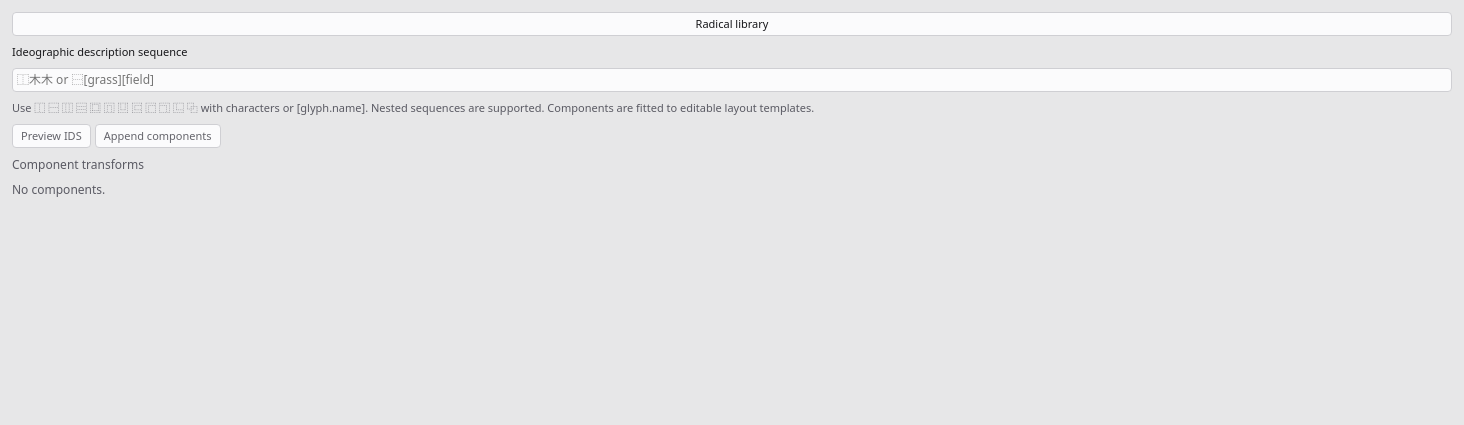
Test: CJK construction panel › inserts a radical the pinned data named, and a font component
Click the button "Radical library". click: coordinates (732, 24)
box: [12,12,1452,36]
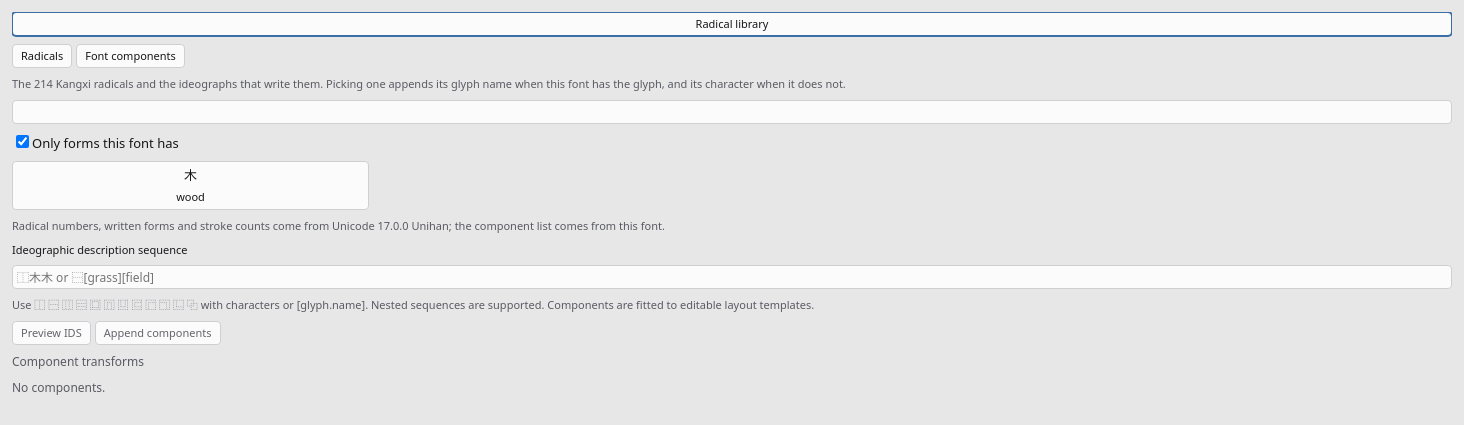
Click the button named "Insert Radical 75 · 4 strokes · U+6728 · wood · 1 glyph in this font". click: coordinates (190, 185)
box: [12,161,369,210]
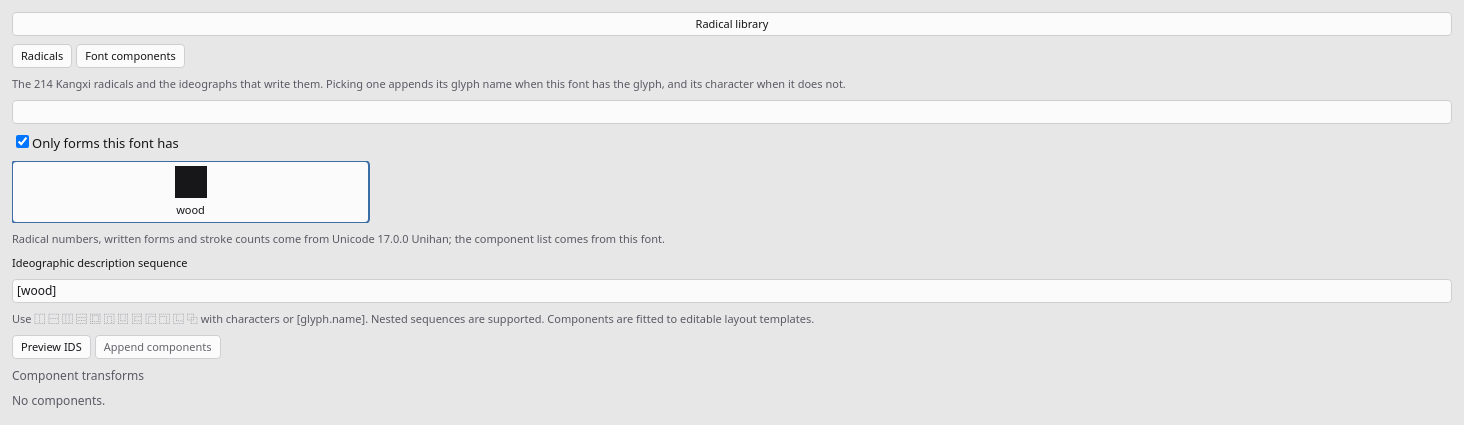
Expected: the field labelled "Ideographic description sequence" holds "[wood]", [12,279,1452,303]
// The second tab lists what the font already uses as components.
Click the tab "Font components". click: coordinates (131, 56)
box: [76,44,185,68]
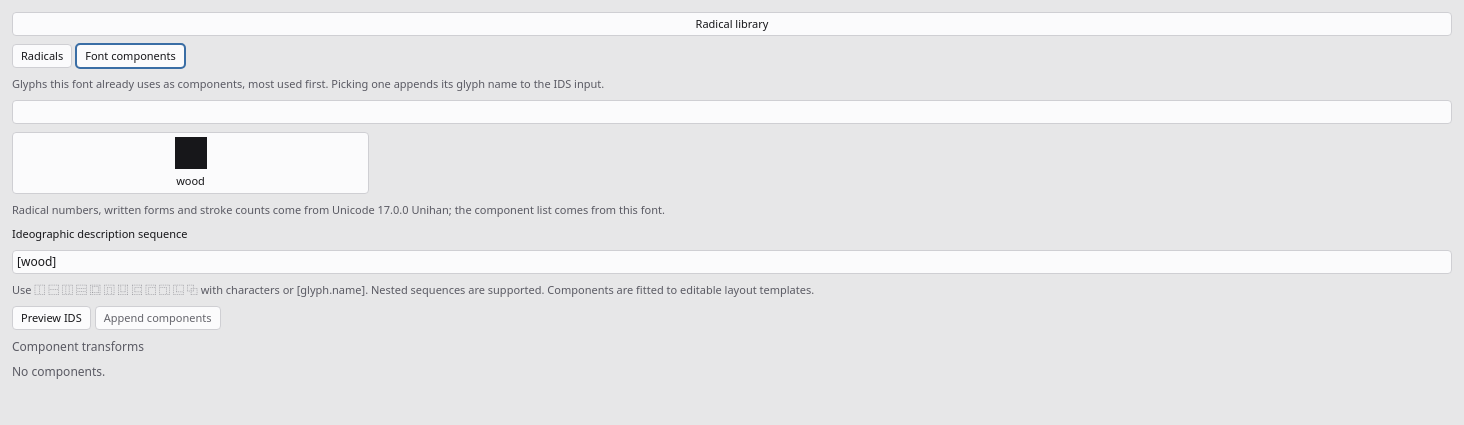
Click the button with aria-label "Insert U+6728 · wood · 2 component uses". click: coordinates (190, 163)
box: [12,132,369,194]
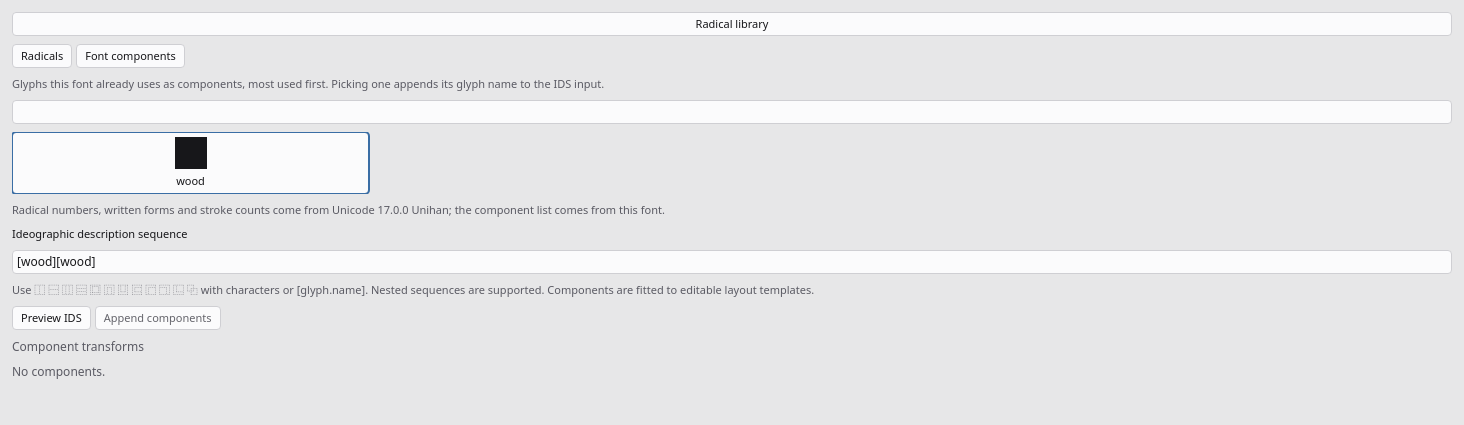
Expected: the field labelled "Ideographic description sequence" holds "[wood][wood]", [12,250,1452,274]
